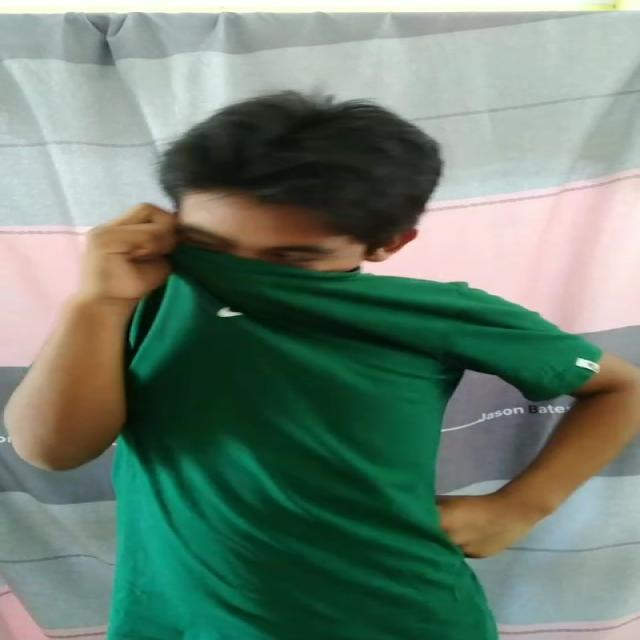8_ropa_rostro: (77, 228, 367, 344)
